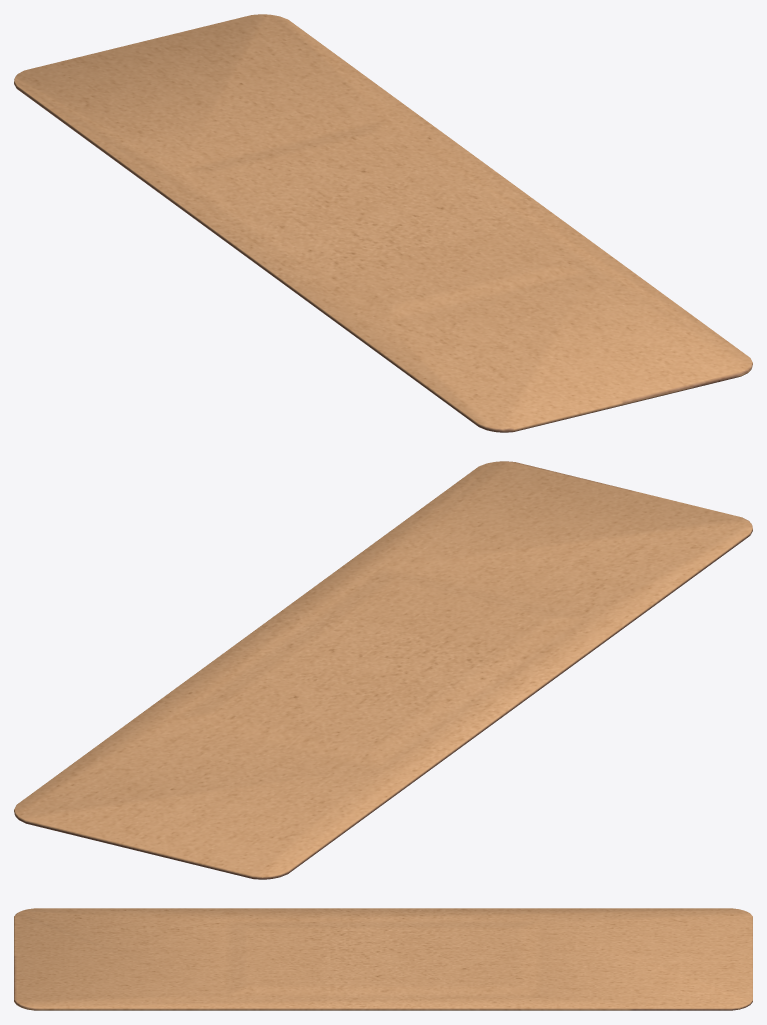
File: Plaster_Large.fbx
3 renders of one model, top to bottom at view 1: azimuth 30°, elevation 25°; view 2: azimuth 150°, elevation 25°; view 3: azimuth 270°, elevation 25°, orthographic. The views are drawn at different scales.
Parts seen in each view (by area): view 1: Plaster_Large; view 2: Plaster_Large; view 3: Plaster_Large.
Boxes of the visible parts, x1=… form: Plaster_Large: x1=14, y1=14, x2=752, y2=432; Plaster_Large: x1=14, y1=461, x2=752, y2=879; Plaster_Large: x1=14, y1=908, x2=752, y2=1010.
Size of the model in its own units: 2.53 by 0.1179 by 7.9.
Materials: 1 (1 with a texture image).
